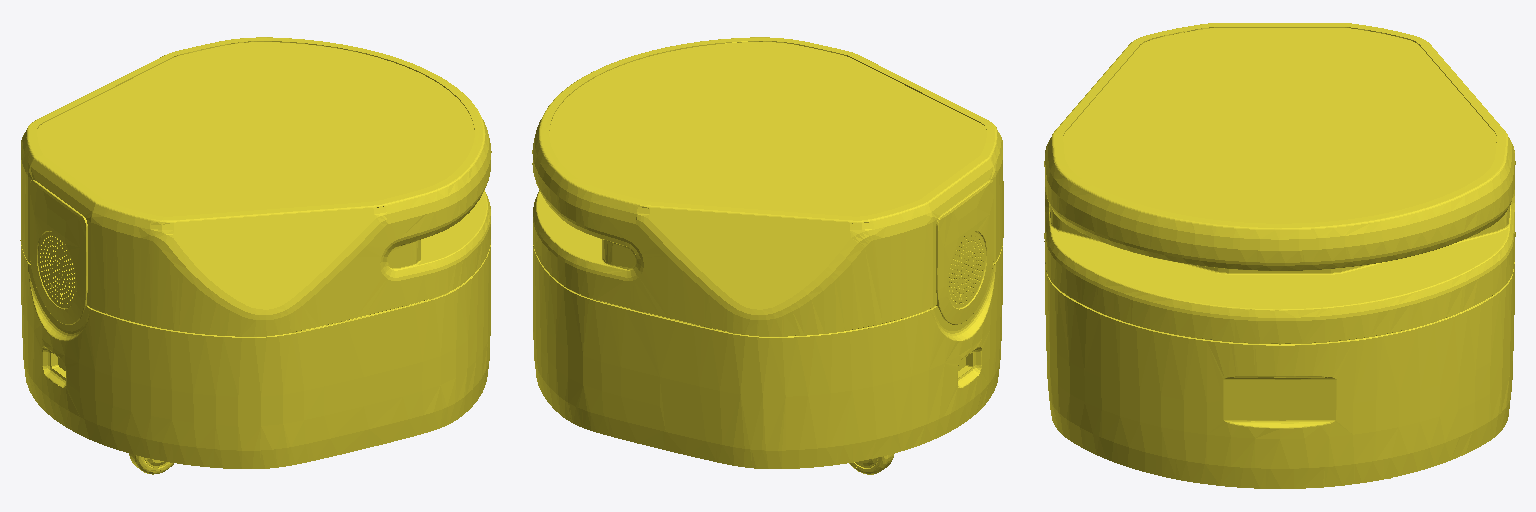
URDF robot description (fetch):
<robot name="fetch">

  <link name="root">
    <inertial>
      <mass value="0"/>
      <inertia ixx="0.00" ixy="0.00" ixz="0.00" iyy="0.00" iyz="0.00" izz="0.00"/>
    </inertial>
  </link>
  <link name="root_arm_1_link_1">
    <inertial>
      <mass value="0"/>
      <inertia ixx="0.00" ixy="0.00" ixz="0.00" iyy="0.00" iyz="0.00" izz="0.00"/>
    </inertial>
  </link>
  <link name="root_arm_1_link_2">
    <inertial>
      <mass value="0"/>
      <inertia ixx="0.00" ixy="0.00" ixz="0.00" iyy="0.00" iyz="0.00" izz="0.00"/>
    </inertial>
  </link>
  <joint name="root_x_axis_joint" type="prismatic">
    <parent link="root"/>
    <child link="root_arm_1_link_1"/>
    <axis xyz="1 0 0"/>
    <limit effort="100" velocity="0.50"/>
    <dynamics damping="10.0" friction="10"/>
  </joint>
  <joint name="root_y_axis_joint" type="prismatic">
    <parent link="root_arm_1_link_1"/>
    <child link="root_arm_1_link_2"/>
    <axis xyz="0 1 0"/>
    <limit effort="100" velocity="0.50"/>
    <dynamics damping="10.0" friction="10"/>
  </joint>
  <joint name="root_z_rotation_joint" type="revolute">
    <parent link="root_arm_1_link_2"/>
    <child link="base_link"/>
    <axis xyz="0 0 1"/>
    <dynamics damping="10.0" friction="1"/>
    <limit lower="-314" upper="314"/>
  </joint>

  <link name="base_link">
    <inertial>
      <origin rpy="0 0 0" xyz="-0.0036 0.0 0.0014"/>
      <mass value="70.1294"/>
      <inertia ixx="1.225" ixy="0.0099" ixz="0.0062" iyy="1.2853" iyz="-0.0034" izz="0.987"/>
    </inertial>
    <visual>
      <origin rpy="0 0 0" xyz="0 0 0"/>
      <geometry>
        <mesh filename="fetch_description/meshes/base_link.obj"/>
      </geometry>
    </visual>
    <collision>
      <origin rpy="0 0 0" xyz="0 0 0"/>
      <geometry>
        <mesh filename="fetch_description/meshes/base_link_collision.STL"/>
      </geometry>
    </collision>
  </link>
  <link name="r_wheel_link">
    <inertial>
      <origin rpy="0 0 0" xyz="0 0 0"/>
      <mass value="4.3542"/>
      <inertia ixx="0.0045" ixy="0" ixz="0" iyy="0.005" iyz="0" izz="0.0045"/>
    </inertial>
    <visual>
      <origin rpy="0 0 0" xyz="0 0 0"/>
      <geometry>
        <mesh filename="fetch_description/meshes/r_wheel_link.STL"/>
      </geometry>
      <material name="">
        <color rgba="1 1 1 1"/>
      </material>
    </visual>
    <collision>
      <origin rpy="0 0 0" xyz="0 0 0"/>
      <geometry>
        <mesh filename="fetch_description/meshes/r_wheel_link_collision.STL"/>
      </geometry>
    </collision>
  </link>
  <joint name="r_wheel_joint" type="fixed">
    <origin rpy="-6.123E-17 0 0" xyz="0.0012914 -0.18738 0.055325"/>
    <parent link="base_link"/>
    <child link="r_wheel_link"/>
    <axis xyz="0 1 0"/>
    <limit effort="8.85" velocity="17.4"/>
  </joint>
  <link name="l_wheel_link">
    <inertial>
      <origin rpy="0 0 0" xyz="0 0 0"/>
      <mass value="4.3542"/>
      <inertia ixx="0.0045" ixy="0" ixz="0" iyy="0.005" iyz="0" izz="0.0045"/>
    </inertial>
    <visual>
      <origin rpy="0 0 0" xyz="0 0 0"/>
      <geometry>
        <mesh filename="fetch_description/meshes/l_wheel_link.STL"/>
      </geometry>
      <material name="">
        <color rgba="1 1 1 1"/>
      </material>
    </visual>
    <collision>
      <origin rpy="0 0 0" xyz="0 0 0"/>
      <geometry>
        <mesh filename="fetch_description/meshes/l_wheel_link_collision.STL"/>
      </geometry>
    </collision>
  </link>
  <joint name="l_wheel_joint" type="fixed">
    <origin rpy="-6.123E-17 0 0" xyz="0.0012914 0.18738 0.055325"/>
    <parent link="base_link"/>
    <child link="l_wheel_link"/>
    <axis xyz="0 1 0"/>
    <limit effort="8.85" velocity="17.4"/>
  </joint>
</robot>

--- Render facts (derived) ---
The picture shows the robot from 3 angles, left to right: view 1: azimuth 30°, elevation 25°; view 2: azimuth 150°, elevation 25°; view 3: azimuth 270°, elevation 25°; orthographic projection.
Robot: fetch — 6 links, 5 joints (1 revolute, 2 prismatic, 2 fixed); root link root; default pose: every joint at zero.
Links seen in each view (by area): view 1: base_link; view 2: base_link; view 3: base_link.
Boxes of the visible links, box(x1,y1,x2,y2) form: base_link: box(20, 37, 491, 474); base_link: box(532, 37, 1003, 474); base_link: box(1044, 23, 1515, 488).
Size in the robot's own frame: 0.5733 by 0.5283 by 0.3589 metres.
1 mesh visuals loaded from 3 distinct referenced files (1 OBJ); not drawn: 2 (reference not matched to a file when rendering).